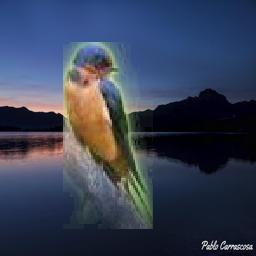Swallow: (63, 43, 153, 230)
